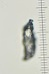microplastic: (21, 19, 36, 61)
